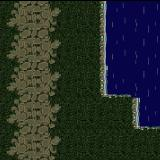Interaction: (88, 0, 116, 104), (125, 113, 160, 140), (116, 92, 147, 113)
Slow: (107, 0, 160, 93), (141, 92, 160, 122)
